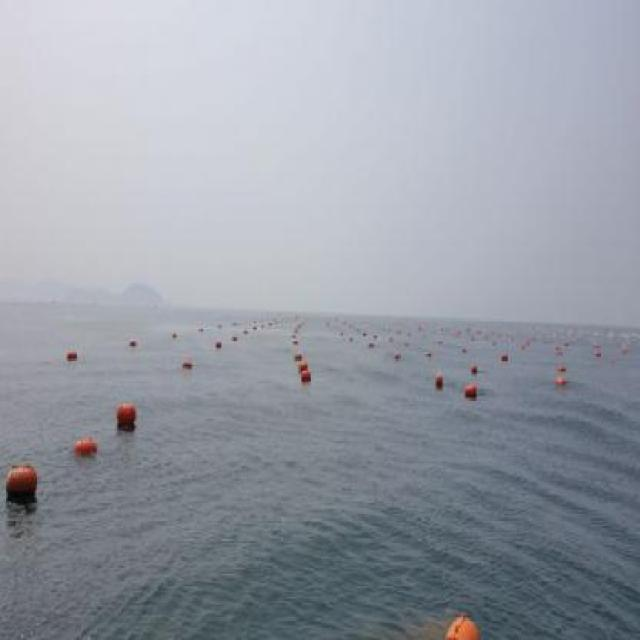a: (2, 457, 51, 514), (110, 396, 147, 438), (65, 434, 102, 470), (444, 608, 486, 639), (430, 346, 458, 391), (460, 382, 485, 416), (497, 347, 514, 372), (469, 360, 486, 384), (554, 371, 577, 386), (298, 366, 312, 383)
